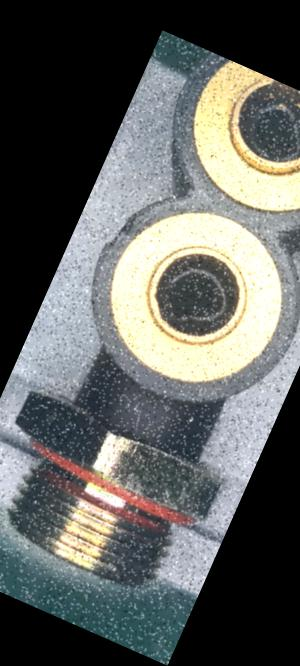bump: (105, 208, 141, 258)
off-centered: (149, 248, 245, 344), (233, 82, 300, 176)
white mark: (139, 409, 166, 437)
